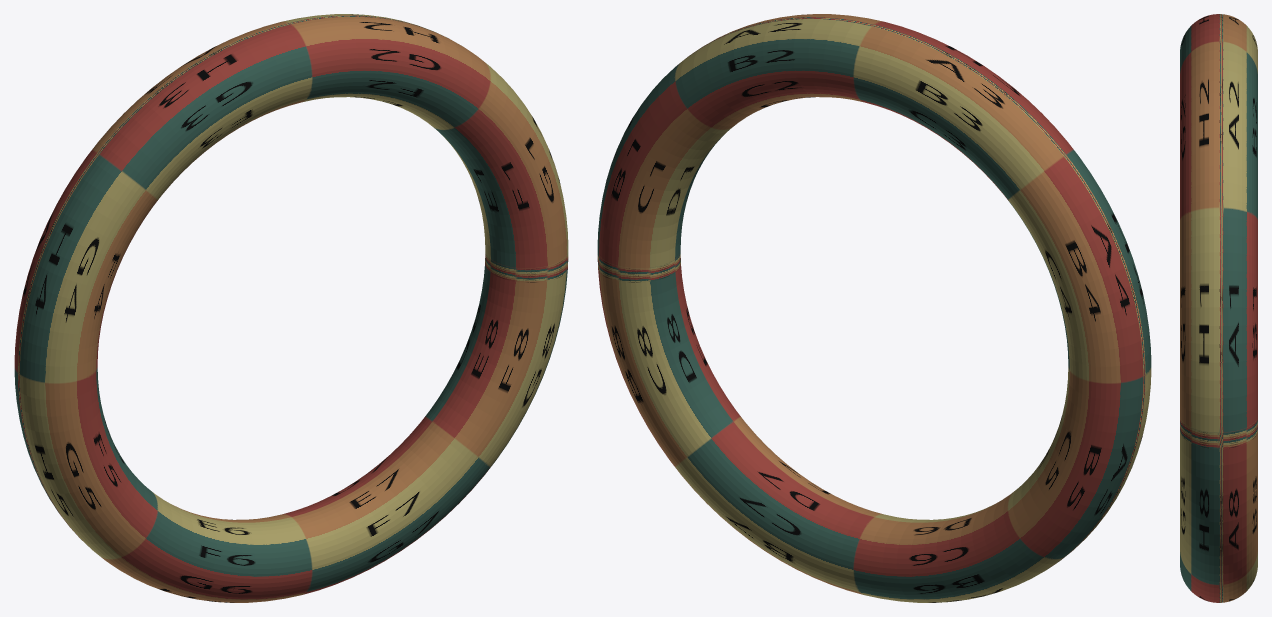
File: texture_torus_R4_r1.glb
3 views of the same model, side by side, from view 1: azimuth 30°, elevation 25°; view 2: azimuth 150°, elevation 25°; view 3: azimuth 270°, elevation 25° (orthographic). The views are drawn at different scales.
Visible parts, largest first — view 1: world; view 2: world; view 3: world.
Part boxes in pixels (x1=…): world: x1=14, y1=14, x2=568, y2=602; world: x1=597, y1=14, x2=1151, y2=602; world: x1=1180, y1=14, x2=1257, y2=602.
Size of the model in its own units: 21.78 by 21.78 by 2.88.
1 material, 1 textured.
